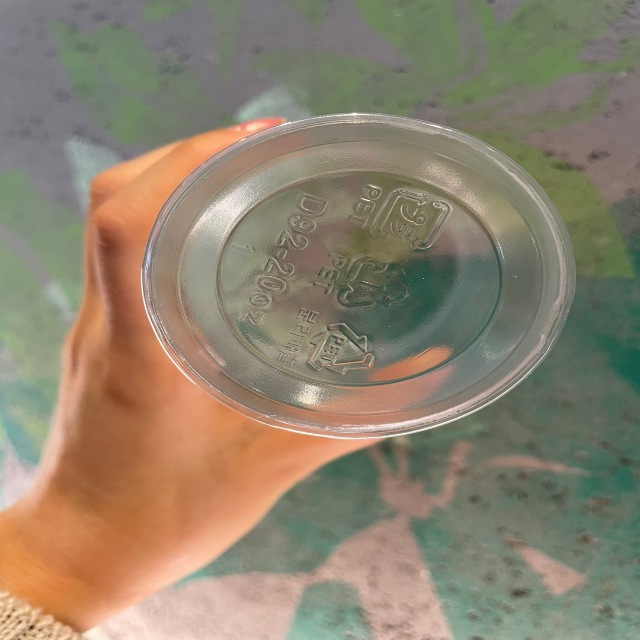pet: (343, 174, 452, 257), (271, 304, 379, 383), (308, 245, 413, 318)
